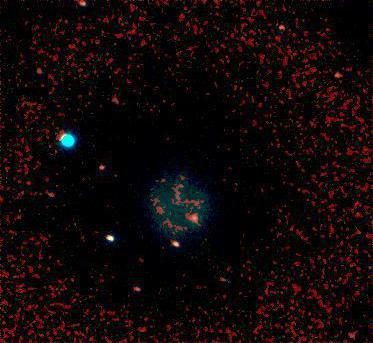star: (36, 181, 66, 211)
